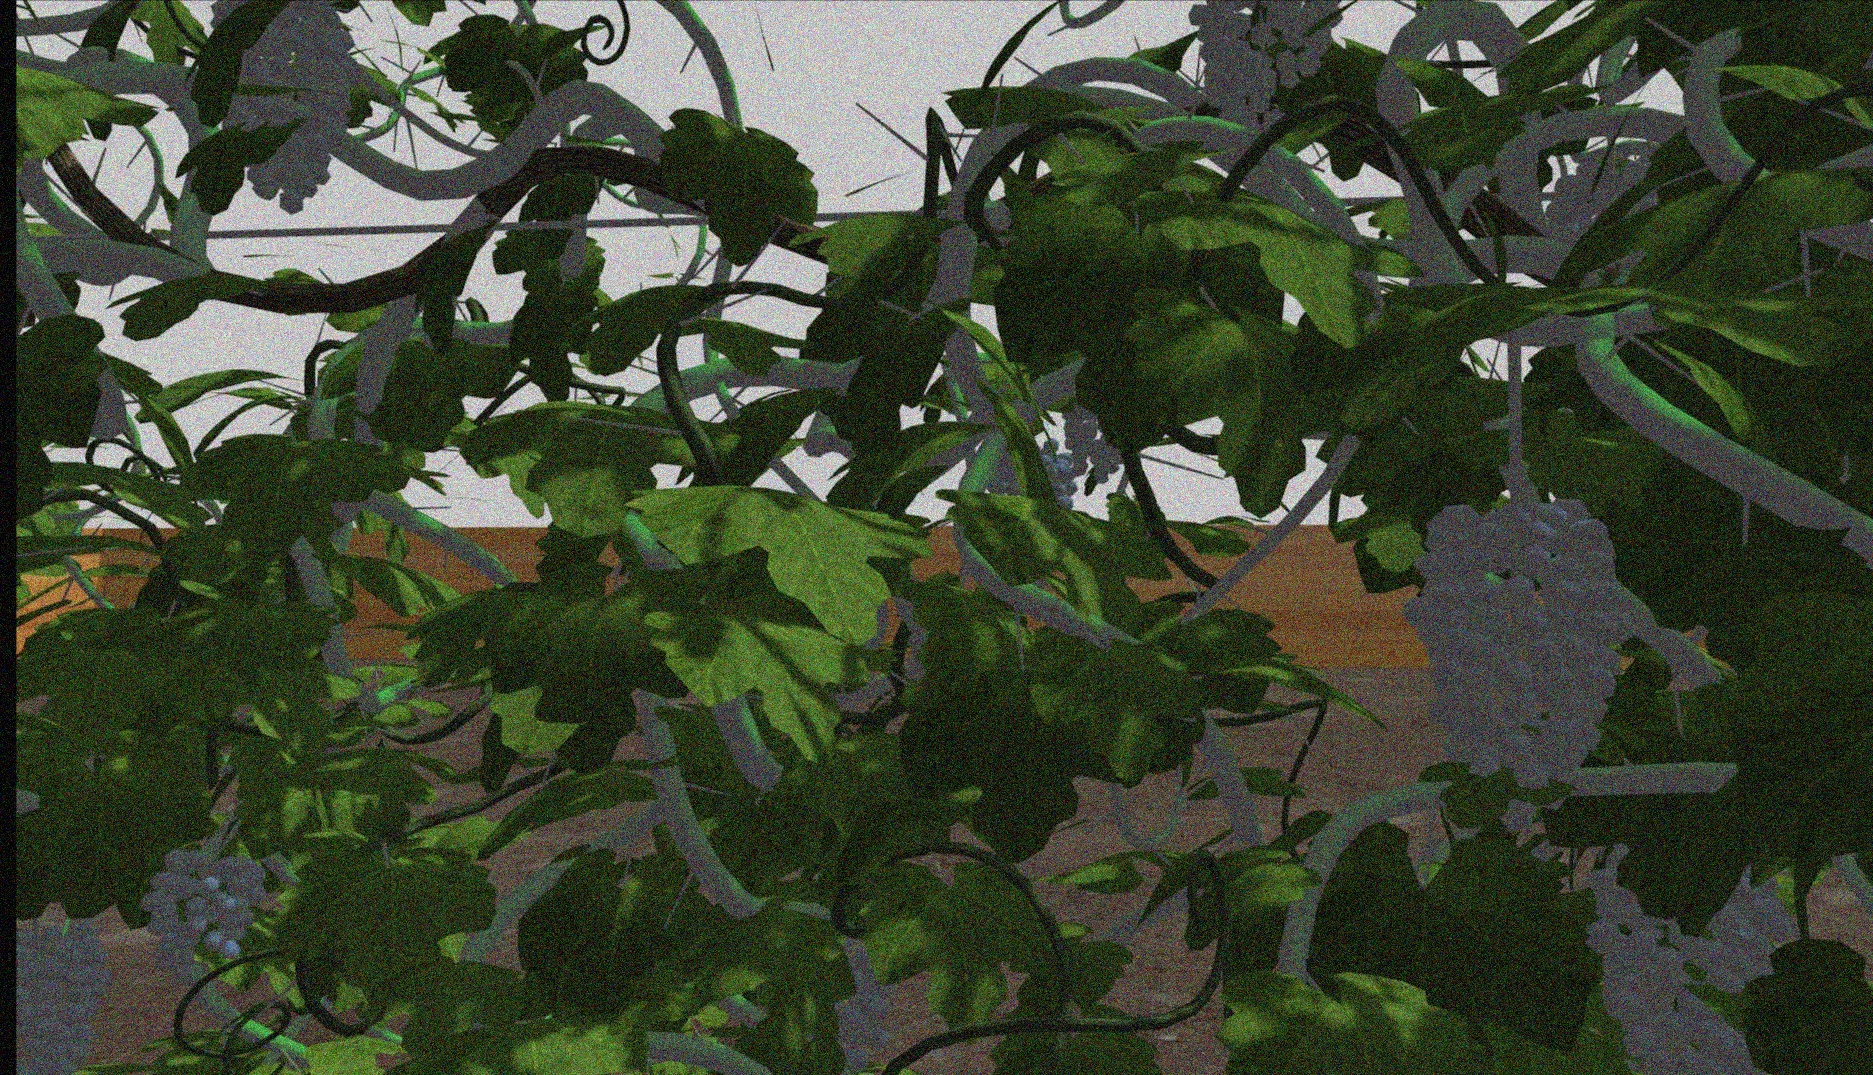grape: (1403, 496, 1631, 787), (1589, 847, 1795, 1069), (225, 9, 358, 212), (139, 837, 266, 988), (1187, 3, 1343, 120), (21, 917, 109, 1072)
